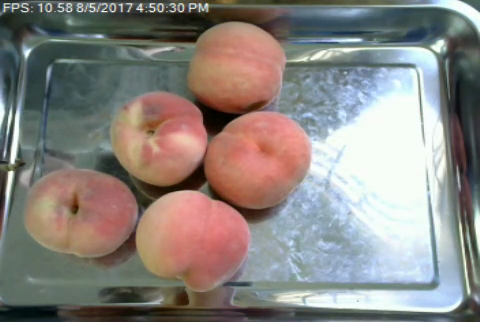Peach: (135, 189, 248, 290), (205, 110, 310, 210), (23, 166, 137, 257), (108, 90, 209, 187), (187, 20, 283, 113)
